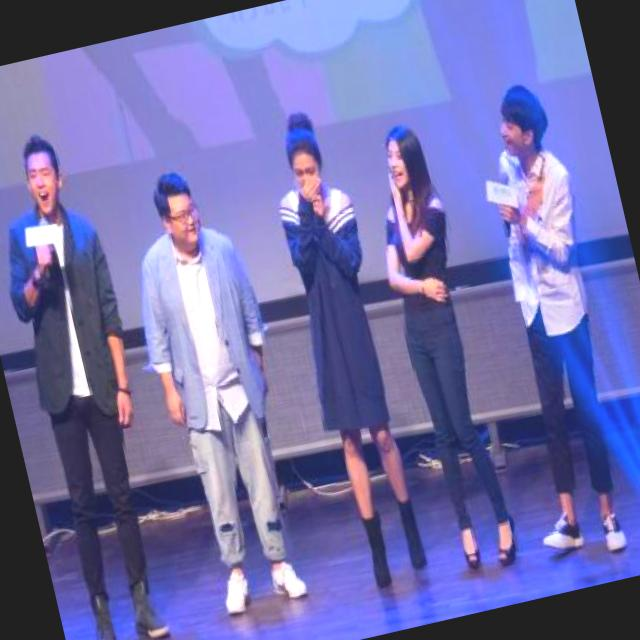Person: (104, 139, 338, 637), (238, 71, 452, 604), (0, 91, 199, 640), (439, 73, 640, 568), (347, 99, 539, 589)
